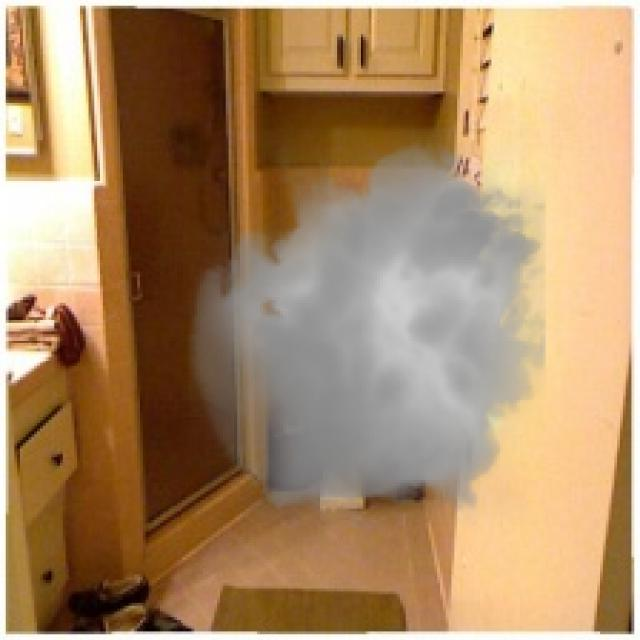smoke: (177, 128, 563, 528)
